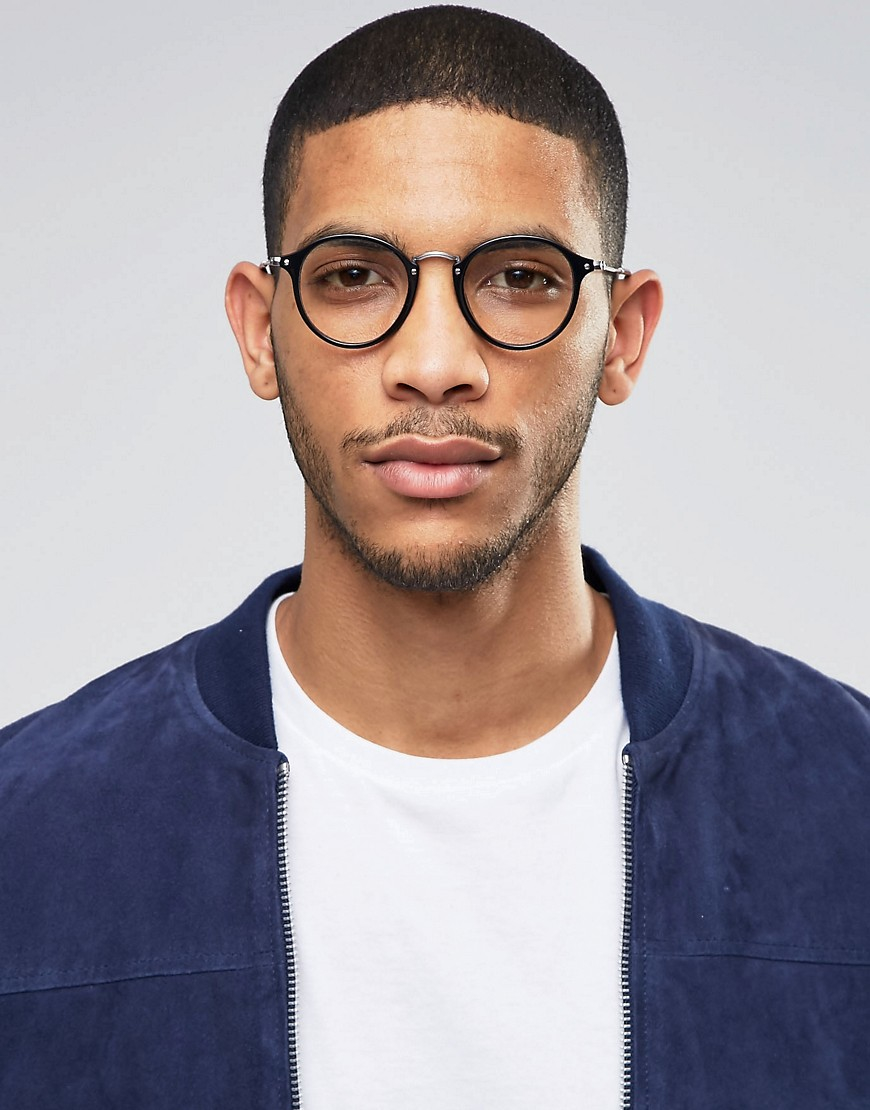llen: (462, 239, 575, 345)
rlen: (299, 237, 410, 344)
